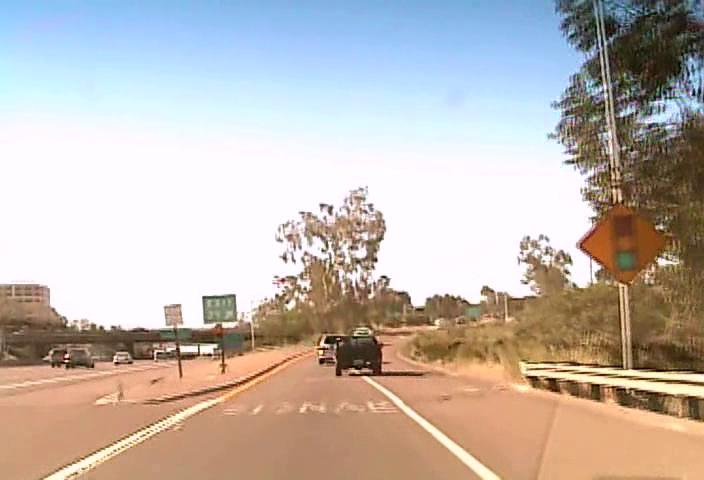signalAhead: (576, 202, 665, 285)
